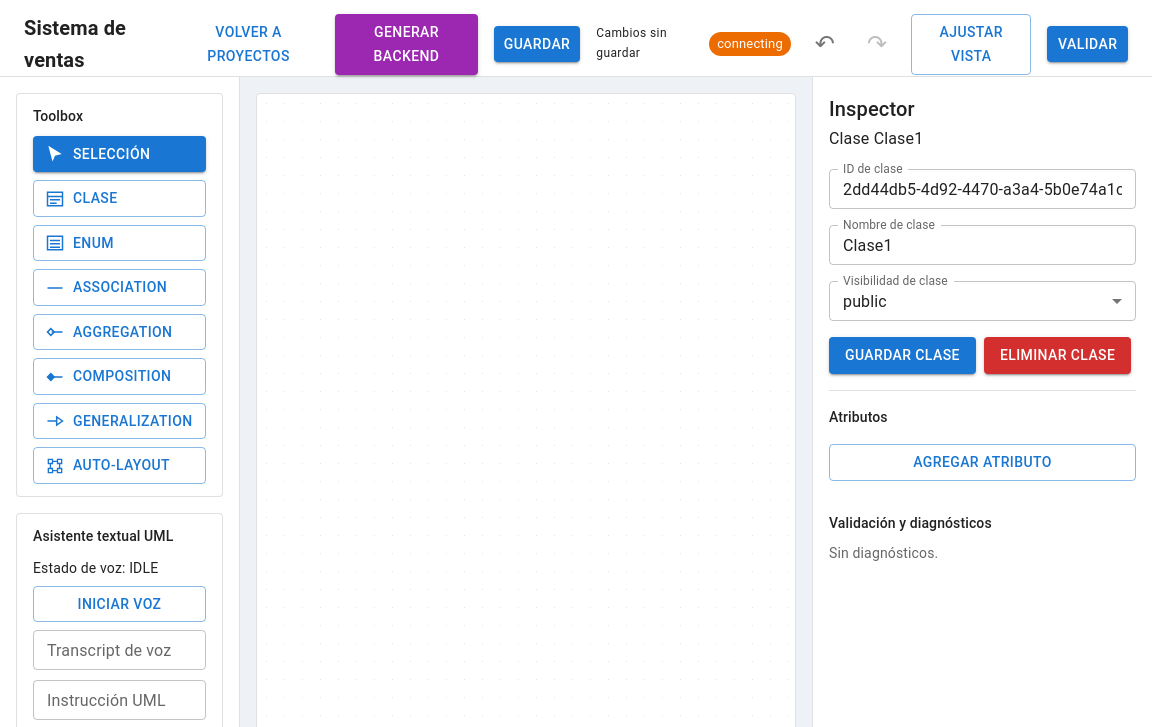
ruta de workspace persistido › conserva los cambios locales y ofrece recargar versión ante un conflicto 409
Check: the heading "Sistema de ventas" is shown, box 24,16 -> 126,72
Click the button "Guardar": {"x": 537, "y": 44} 494,26 -> 580,62
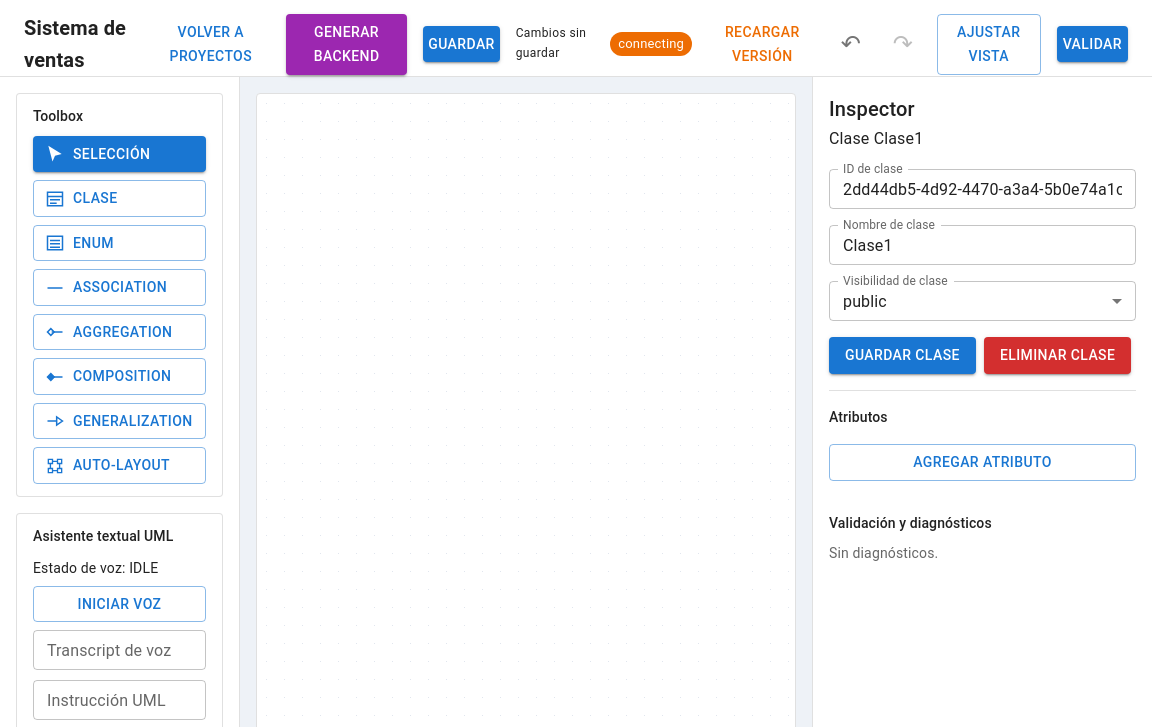
Check: the text "Cambios sin guardar" is shown, box 516,24 -> 594,64
Check: the button "Recargar versión" is shown, box 708,14 -> 817,74
